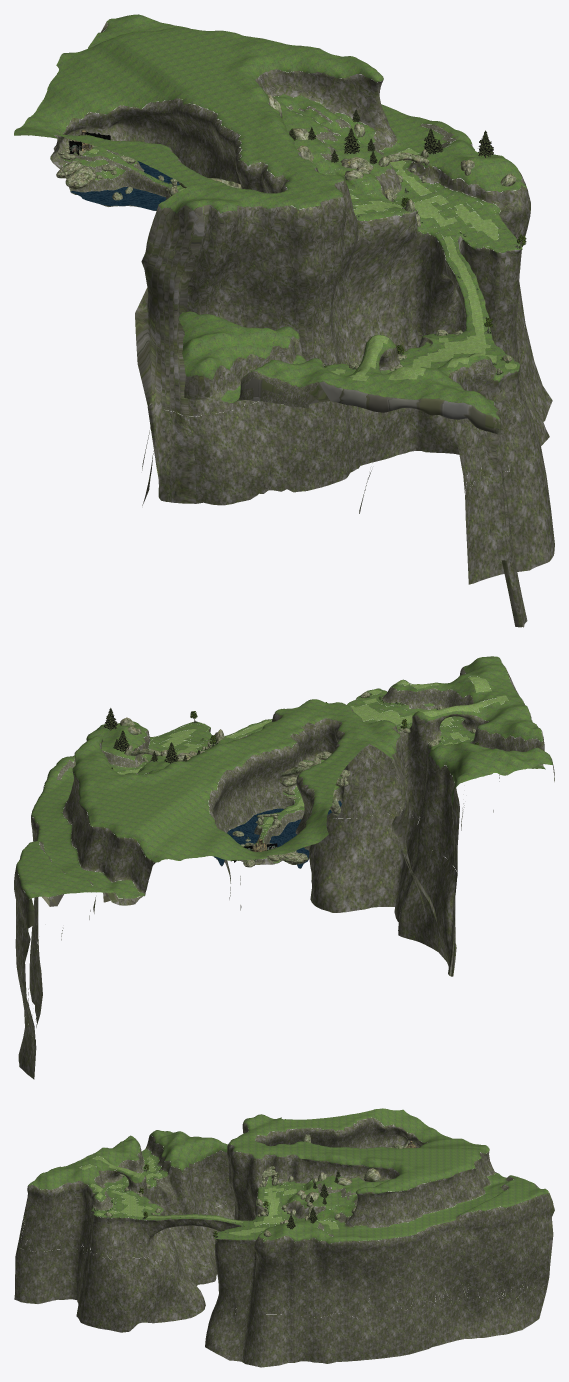
The model's file is NordNorthEast.glb.
3 views of the same model, one above another, from view 1: azimuth 30°, elevation 25°; view 2: azimuth 150°, elevation 25°; view 3: azimuth 270°, elevation 25° (orthographic). The views are drawn at different scales.
Visible parts, largest first — view 1: basegrounds1, basegrounds2, rocks00, water_under; view 2: basegrounds1, basegrounds2, water_under, rocks00, rocks01; view 3: basegrounds1, basegrounds2, rocks00, basegrounds3.
Boxes of the visible parts, x1,y1,x2,y2 form: basegrounds1: (14,14,554,627); basegrounds2: (88,148,516,381); rocks00: (268,95,516,228); water_under: (70,161,222,212); basegrounds1: (14,656,554,1079); basegrounds2: (117,676,508,826); water_under: (213,800,341,868); rocks00: (120,717,271,765); rocks01: (257,765,340,827); basegrounds1: (14,1108,554,1367); basegrounds2: (78,1156,339,1235); rocks00: (256,1166,381,1236); basegrounds3: (287,1180,356,1219).
Bounding box in the file's own units: 641 × 392 × 1188.
269 materials, 269 textured.
